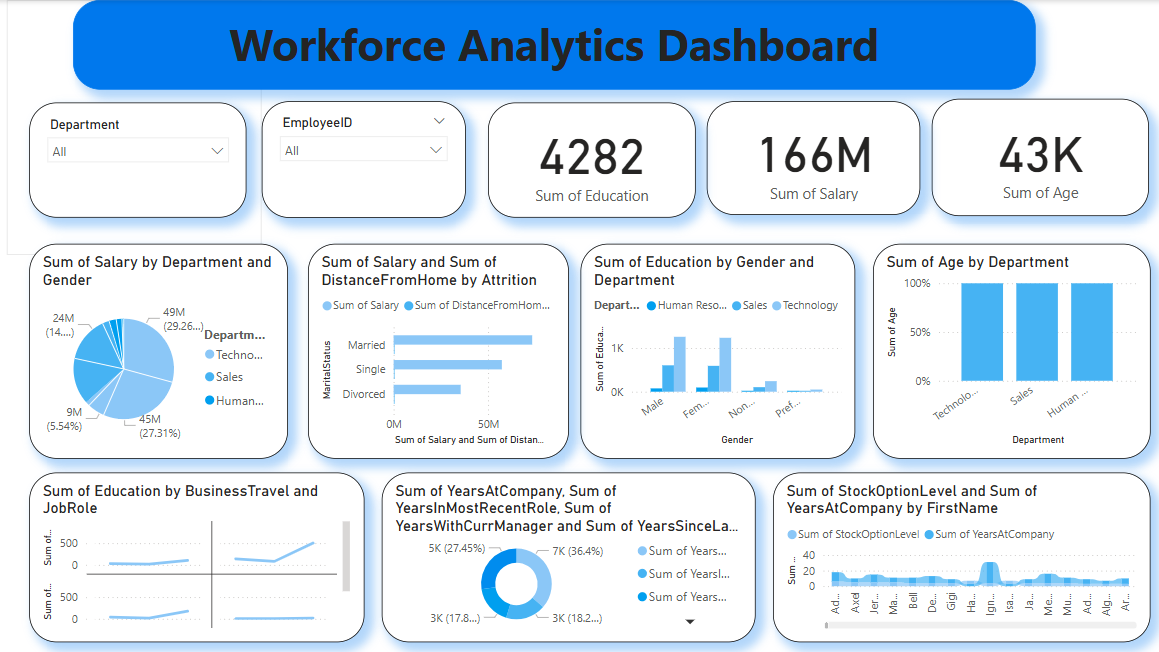

Layout of this report page (visuals, bound fields, positions):
{"tool":"powerbi","page":{"name":"Page","canvas":[1280,720],"ordinal":0},"visuals":[{"type":"textbox","box":[10,0,280,280],"z":0},{"type":"textbox","box":[10,290,280,280],"z":1000},{"type":"textbox","box":[82.3,0,1056.6,98.8],"z":2000},{"type":"card","title":"Age","fields":{"Values":["Sum(data.Age)"]},"box":[1025,108.4,238.8,129],"z":3000},{"type":"card","title":"Salary","fields":{"Values":["Sum(data.Salary)"]},"box":[778,111.1,234.6,124.9],"z":4000},{"type":"card","fields":{"Values":["Sum(data.Education)"]},"box":[537.9,112.5,227.8,126.2],"z":5000},{"type":"hundredPercentStackedColumnChart","fields":{"Category":["data.Department"],"Y":["Sum(data.Age)"]},"box":[960.6,267.6,304.6,236],"z":6000},{"type":"slicer","fields":{"Values":["data.EmployeeID"]},"box":[289.5,111.1,223.7,127.6],"z":7000},{"type":"slicer","fields":{"Values":["data.Department"]},"box":[34.3,112.5,238.8,126.2],"z":8000},{"type":"clusteredColumnChart","fields":{"Category":["data.Gender"],"Series":["data.Department"],"Y":["Sum(data.Education)"]},"box":[639.5,267.6,301.9,236],"z":9000},{"type":"clusteredBarChart","title":"Sum of Salary and Sum of DistanceFromHome by Attrition","fields":{"Category":["data.MaritalStatus"],"Y":["Sum(data.Salary)","Sum(data.DistanceFromHome (KM))"]},"box":[340.3,267.6,286.8,236],"z":10000},{"type":"pieChart","fields":{"Category":["data.Department"],"Series":["data.Gender"],"Y":["Sum(data.Salary)"]},"box":[34.3,267.6,284,236],"z":11000},{"type":"ribbonChart","fields":{"Category":["data.FirstName"],"Y":["Sum(data.StockOptionLevel)","Sum(data.YearsAtCompany)"]},"box":[849.4,518.7,414.4,186.6],"z":12000},{"type":"donutChart","fields":{"Y":["Sum(data.YearsAtCompany)","Sum(data.YearsInMostRecentRole)","Sum(data.YearsWithCurrManager)","Sum(data.YearsSinceLastPromotion)"]},"box":[421.3,518.7,410.3,186.6],"z":13000},{"type":"lineChart","fields":{"Category":["data.BusinessTravel"],"Rows":["data.JobRole"],"Y":["Sum(data.Education)"]},"box":[34.3,518.7,367.8,186.6],"z":14000}]}

Visuals, with their boxes in screenshot pixels (x1, y1, x2, y2), scaled from the page's 1280x720 canvas onto the 1159x652 screenshot:
textbox: l=9, t=0, r=263, b=254
textbox: l=9, t=263, r=263, b=516
textbox: l=75, t=0, r=1031, b=89
"Age" card: l=928, t=98, r=1144, b=215
"Salary" card: l=704, t=101, r=917, b=214
card - Sum(data.Education): l=487, t=102, r=693, b=216
hundredPercentStackedColumnChart - data.Department x Sum(data.Age): l=870, t=242, r=1146, b=456
slicer - data.EmployeeID: l=262, t=101, r=465, b=216
slicer - data.Department: l=31, t=102, r=247, b=216
clusteredColumnChart - data.Gender x data.Department: l=579, t=242, r=852, b=456
"Sum of Salary and Sum of DistanceFromHome by Attrition" clusteredBarChart: l=308, t=242, r=568, b=456
pieChart - data.Department x data.Gender: l=31, t=242, r=288, b=456
ribbonChart - data.FirstName x Sum(data.StockOptionLevel): l=769, t=470, r=1144, b=639
donutChart - Sum(data.YearsAtCompany) x Sum(data.YearsInMostRecentRole): l=381, t=470, r=753, b=639
lineChart - data.BusinessTravel x data.JobRole: l=31, t=470, r=364, b=639
